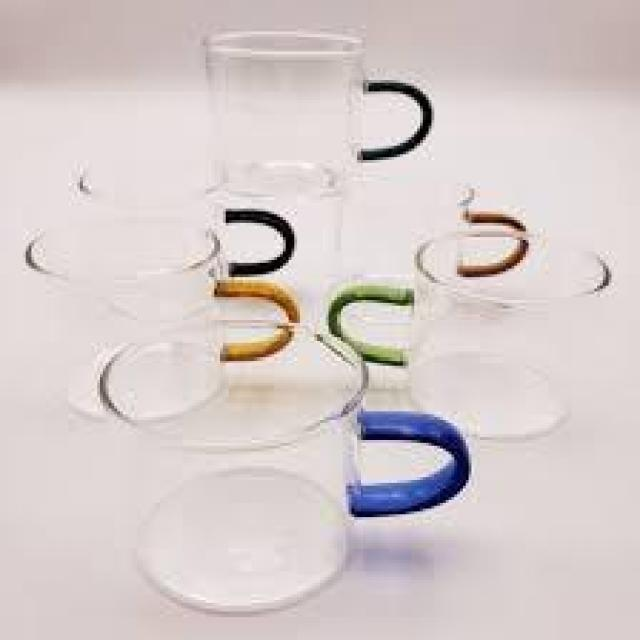non-organic waste: (97, 317, 472, 612)
